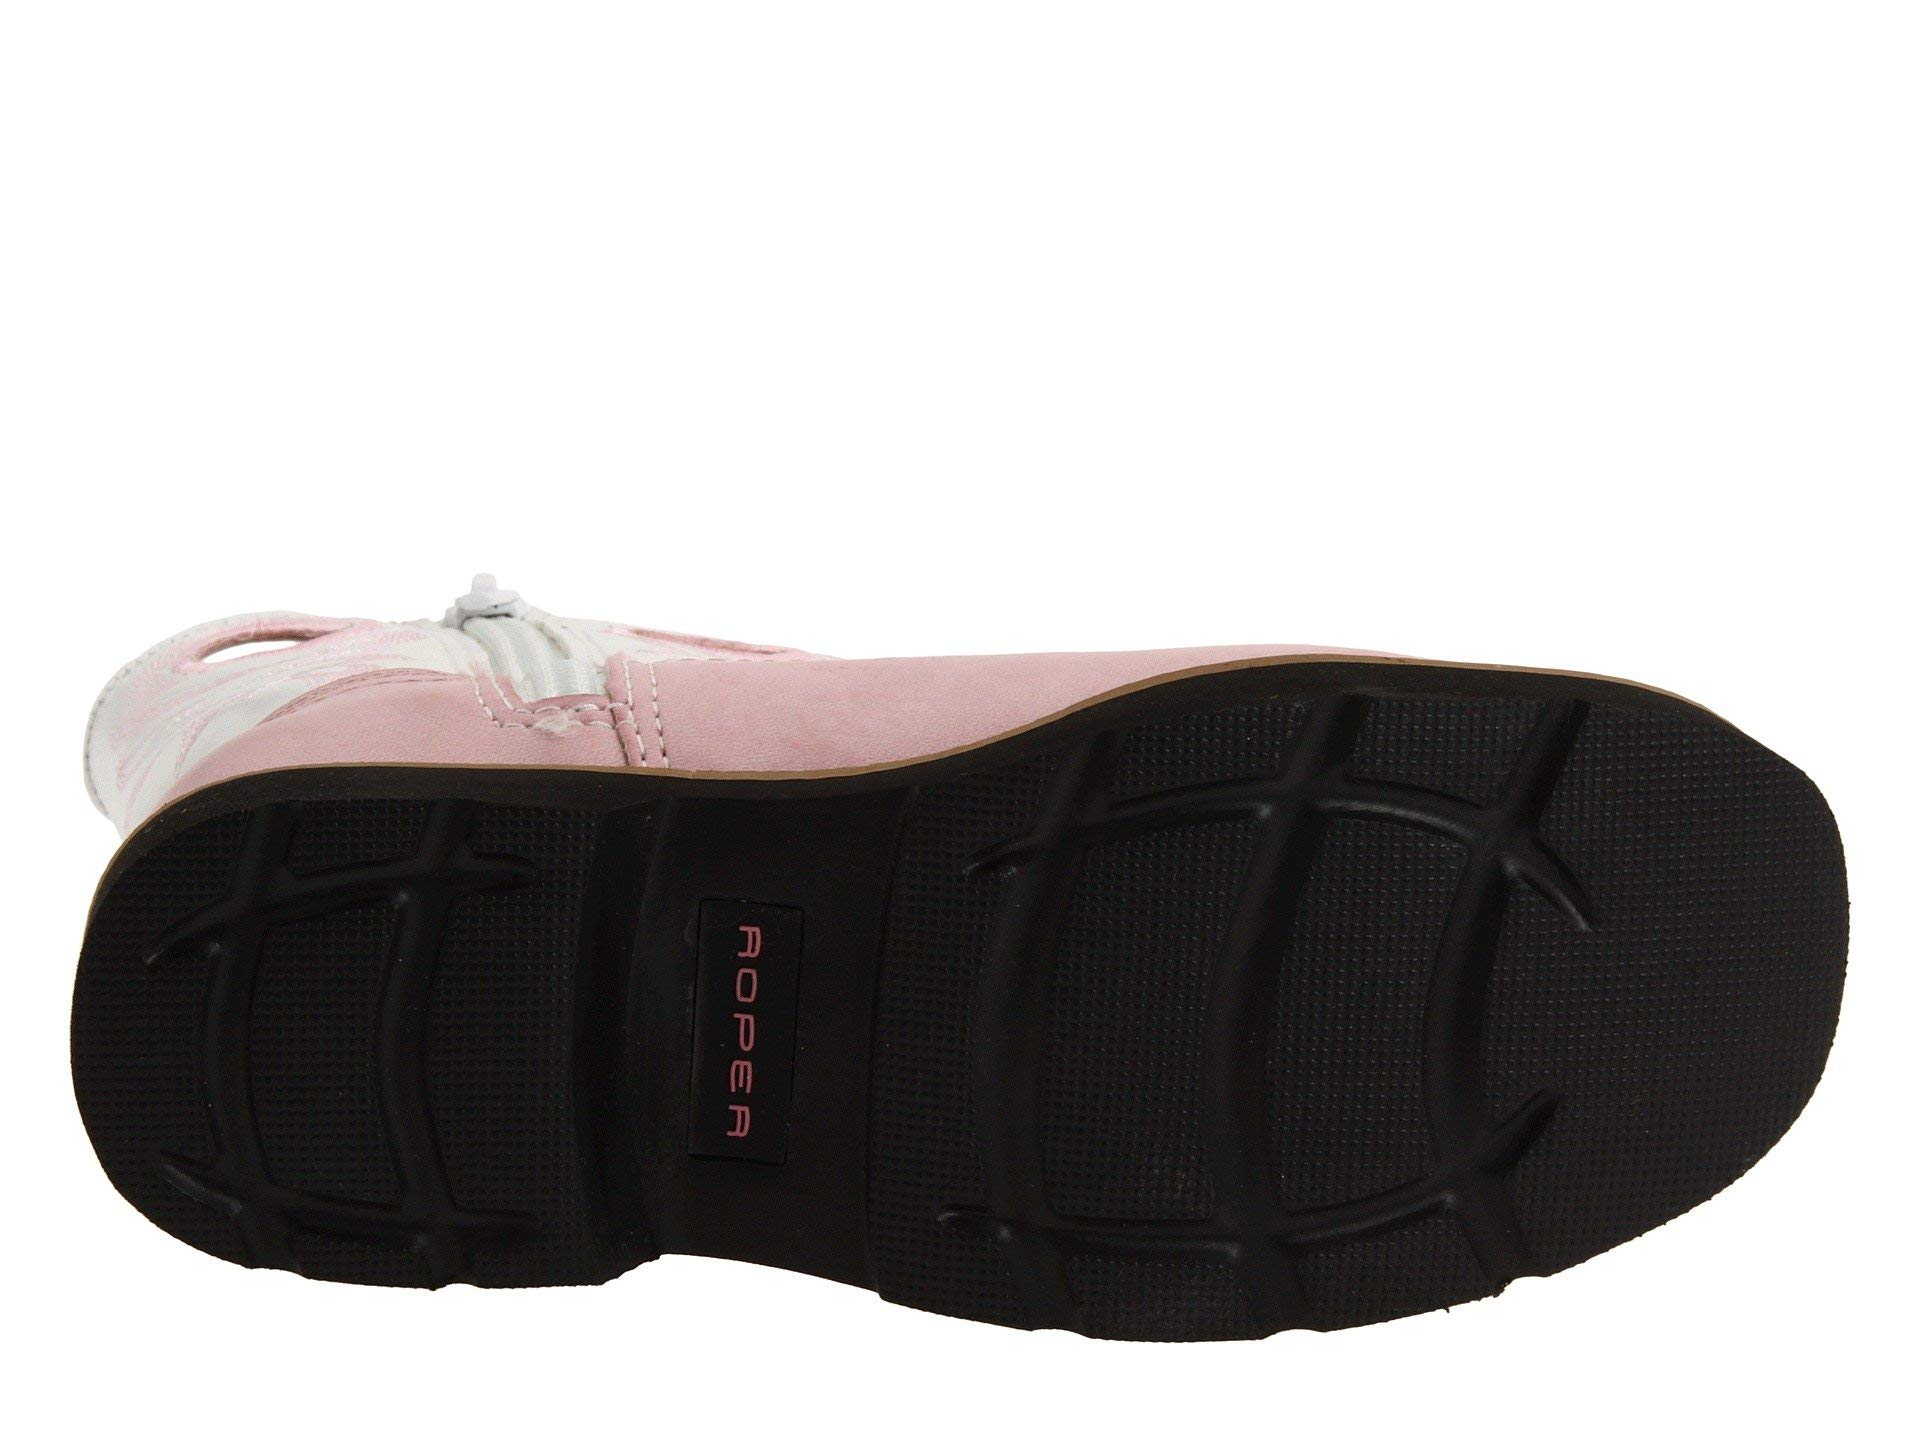circle: (937, 740, 1578, 1311), (150, 867, 544, 1252), (1606, 759, 1784, 1139)
exclude: (578, 796, 883, 1296)
quad: (937, 740, 1578, 1311), (150, 867, 544, 1252)
